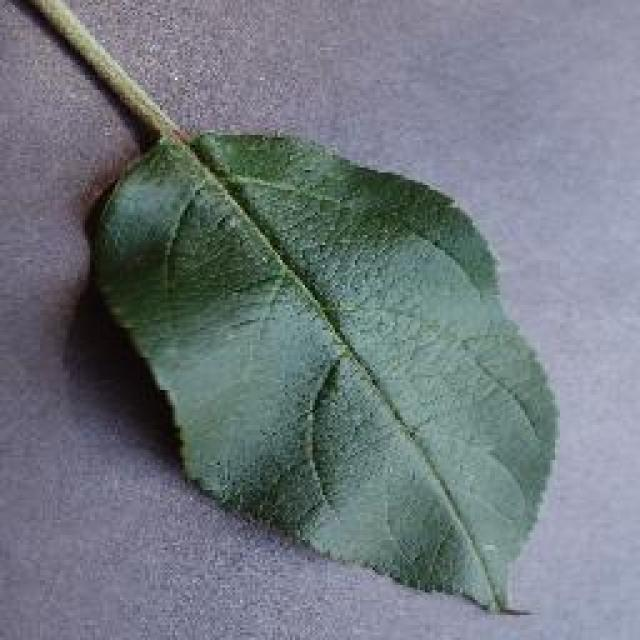apple healthy: (0, 0, 562, 615)
